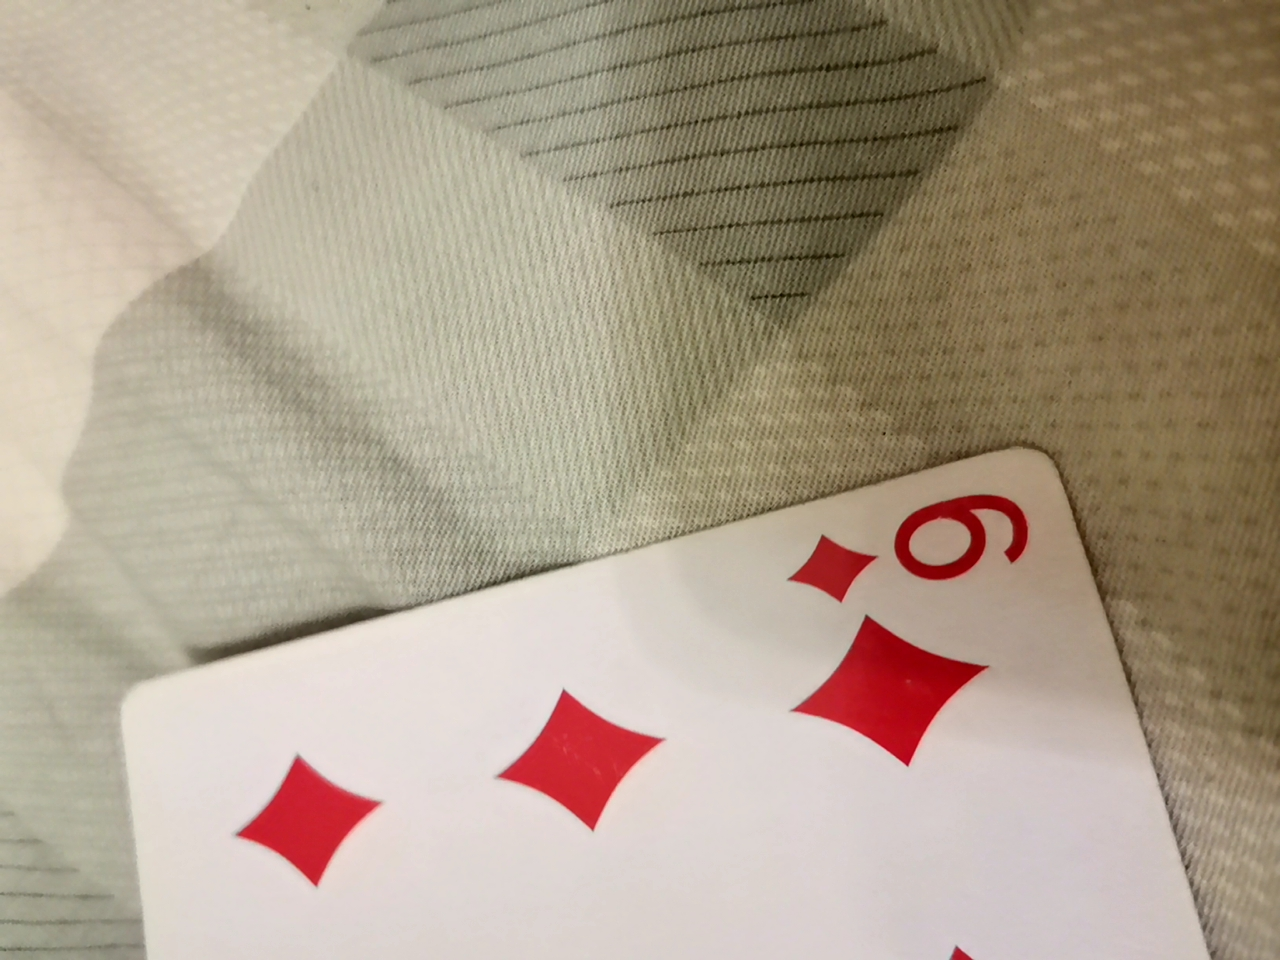fk 6: (85, 469, 1280, 956)
